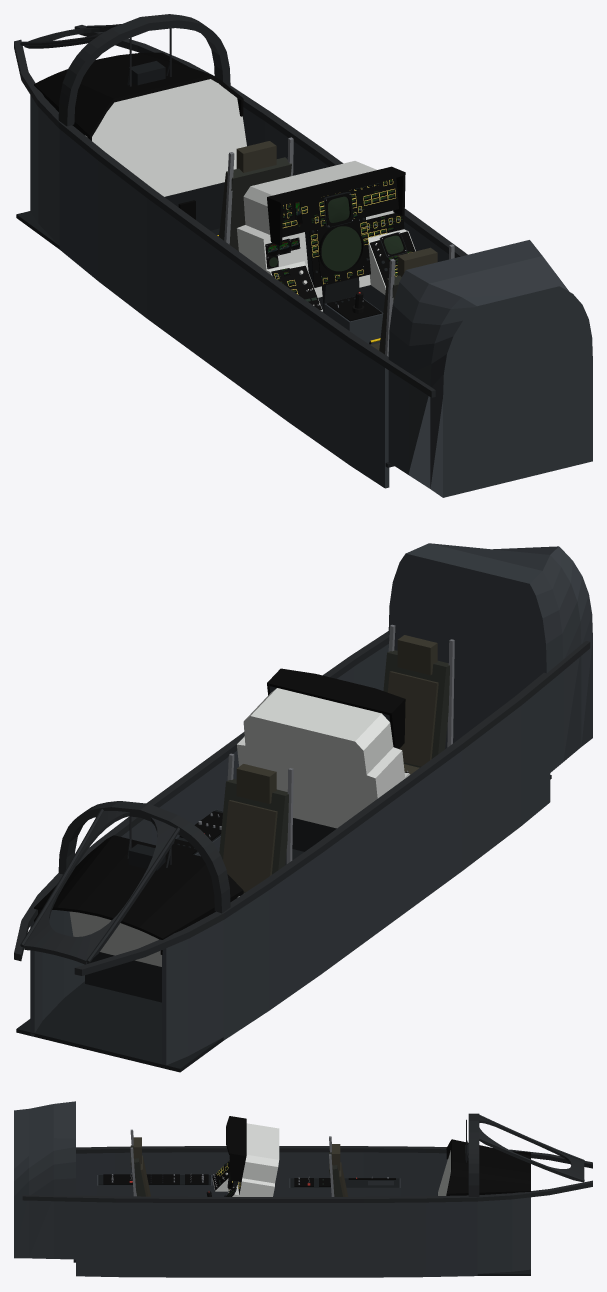
File: cockpit_f14_rio.glb
The picture shows the model from 3 angles, top to bottom: view 1: azimuth 30°, elevation 25°; view 2: azimuth 150°, elevation 25°; view 3: azimuth 270°, elevation 25°; orthographic projection. The views are drawn at different scales.
Visible parts, largest first — view 1: panel_grey, panel_grey.002, panel_light, frame, black, panel_light.001, frame.002, frame.001, panel_grey.001, seat_95.001, black.021, black.005 (+10 smaller); view 2: panel_grey, panel_grey.002, panel_light.001, black, dark, panel_grey.001, frame, cushion_96.001, frame.011, frame.002, frame.001, cushion_96 (+8 smaller); view 3: panel_grey.001, panel_grey.002, panel_grey, frame.001, black, panel_light.001, frame, panel_grey.010, frame.011, frame.002, panel_grey.005, black.005 (+8 smaller).
Boxes of the visible parts, bbox=[...] form: panel_grey: bbox=[30, 95, 389, 488]; panel_grey.002: bbox=[388, 240, 592, 497]; panel_light: bbox=[85, 79, 246, 196]; frame: bbox=[14, 39, 435, 397]; black: bbox=[34, 52, 243, 139]; panel_light.001: bbox=[236, 161, 404, 297]; frame.002: bbox=[58, 14, 230, 126]; frame.001: bbox=[74, 25, 467, 257]; panel_grey.001: bbox=[242, 107, 448, 261]; seat_95.001: bbox=[219, 157, 291, 251]; black.021: bbox=[282, 178, 398, 237]; black.005: bbox=[267, 166, 405, 205]; panel_grey: bbox=[162, 682, 550, 1067]; panel_grey.002: bbox=[388, 543, 592, 772]; panel_light.001: bbox=[237, 688, 405, 828]; black: bbox=[34, 835, 243, 939]; dark: bbox=[16, 981, 223, 1072]; panel_grey.001: bbox=[30, 644, 388, 1036]; frame: bbox=[74, 641, 590, 975]; cushion_96.001: bbox=[223, 800, 277, 891]; frame.011: bbox=[24, 811, 175, 964]; frame.002: bbox=[58, 801, 230, 913]; frame.001: bbox=[14, 631, 389, 961]; cushion_96: bbox=[387, 671, 438, 766]; panel_grey.001: bbox=[76, 1197, 530, 1277]; panel_grey.002: bbox=[14, 1101, 75, 1259]; panel_grey: bbox=[76, 1152, 447, 1196]; frame.001: bbox=[22, 1180, 592, 1202]; black: bbox=[446, 1139, 530, 1195]; panel_light.001: bbox=[239, 1123, 279, 1196]; frame: bbox=[76, 1146, 592, 1168]; panel_grey.010: bbox=[97, 1175, 212, 1196]; frame.011: bbox=[479, 1116, 584, 1182]; frame.002: bbox=[468, 1113, 479, 1196]; panel_grey.005: bbox=[289, 1185, 400, 1196]; black.005: bbox=[226, 1116, 246, 1157].
Bounding box in the file's own units: 1.01 × 1.17 × 4.67.
21 materials, 1 textured.
